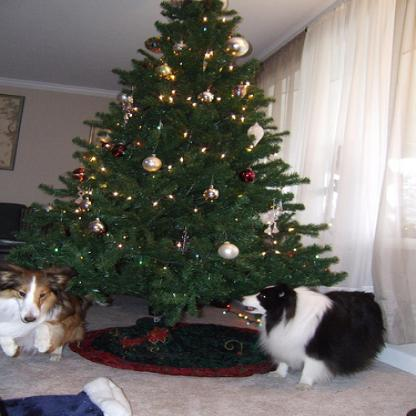Shetland_sheepdog: (235, 280, 385, 387), (0, 260, 88, 362)
